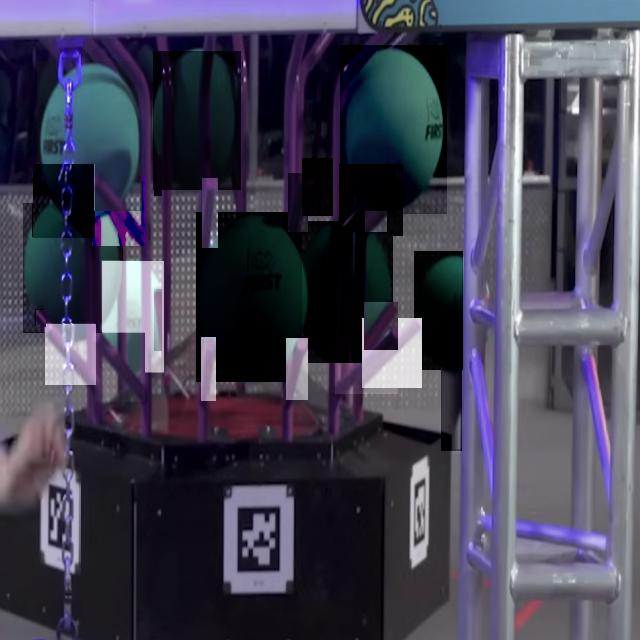Algae: (196, 212, 306, 382), (340, 45, 447, 214), (37, 61, 142, 211), (23, 204, 124, 334), (302, 221, 393, 363), (153, 51, 241, 190), (102, 262, 164, 374), (414, 251, 463, 370)
Coral: (441, 367, 462, 451)
Reef: (339, 164, 403, 236), (34, 164, 96, 238), (362, 318, 422, 388), (335, 328, 398, 394), (92, 175, 146, 246), (95, 333, 145, 402), (45, 324, 96, 385), (302, 158, 333, 216), (364, 302, 398, 350), (286, 338, 308, 400), (288, 174, 308, 234), (202, 178, 218, 248), (201, 337, 216, 401), (154, 290, 162, 351), (365, 211, 387, 232), (154, 154, 162, 196), (36, 310, 46, 327)
